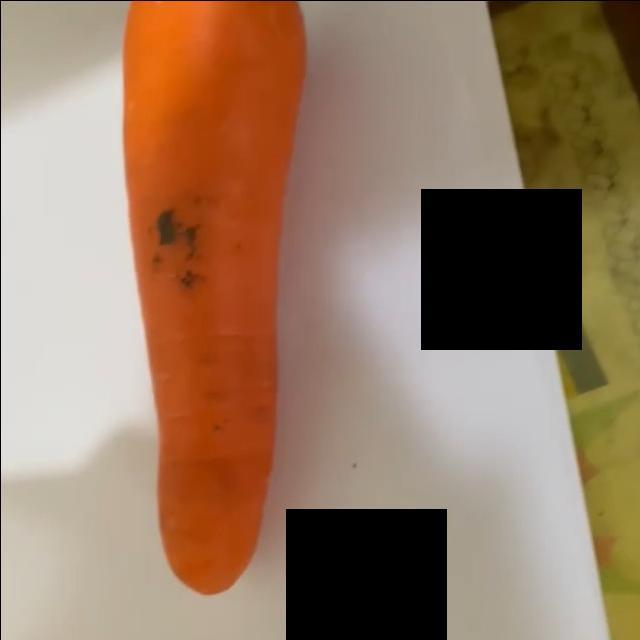carrot: (104, 1, 313, 601)
